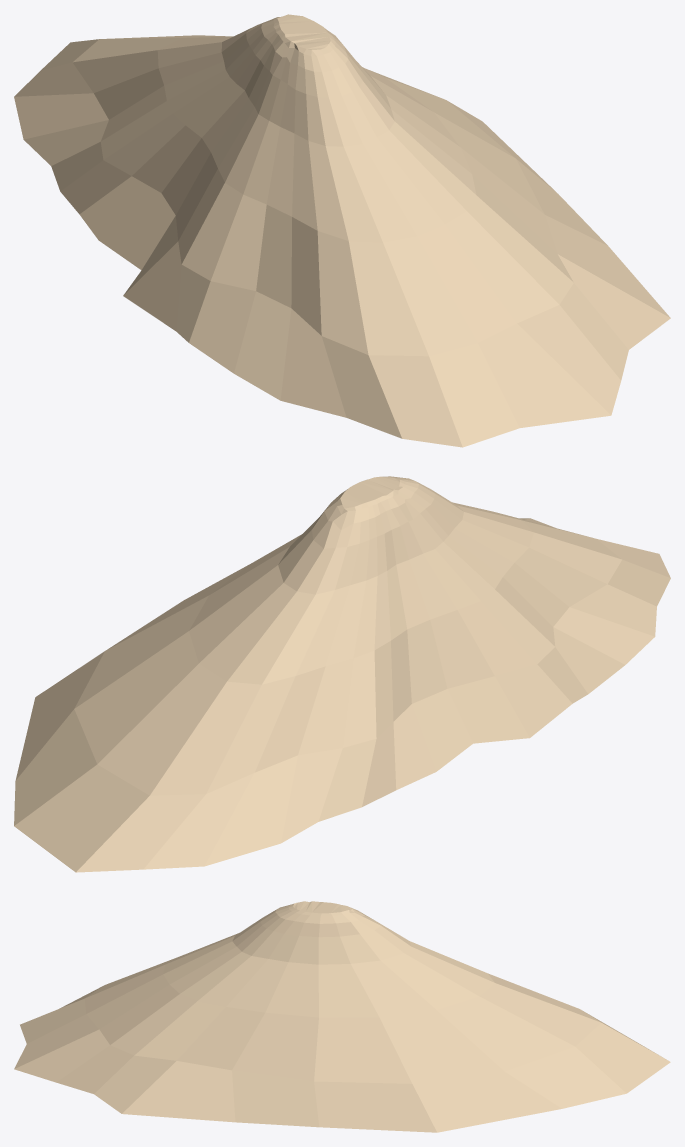
Rendered from island-02.fbx.
3 views of the same model, one above another, from view 1: azimuth 30°, elevation 25°; view 2: azimuth 150°, elevation 25°; view 3: azimuth 270°, elevation 25° (orthographic). The views are drawn at different scales.
Parts seen in each view (by area): view 1: Cube; view 2: Cube; view 3: Cube.
Boxes of the visible parts, box(x1,y1,x2,y2) form: Cube: box(14, 14, 670, 447); Cube: box(14, 476, 670, 872); Cube: box(14, 901, 670, 1132).
Bounding box in the file's own units: 4929 × 2344 × 9853.
